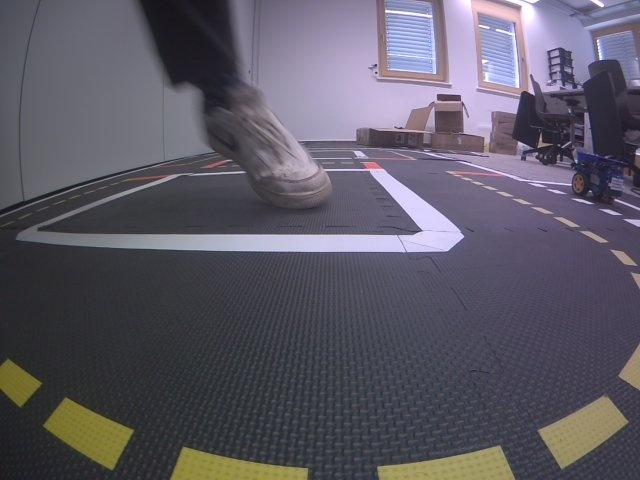bot: (569, 150, 631, 202)
park: (521, 181, 639, 228)
